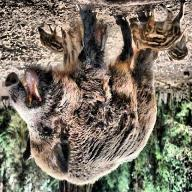boar: (6, 7, 163, 188), (129, 3, 186, 57)
